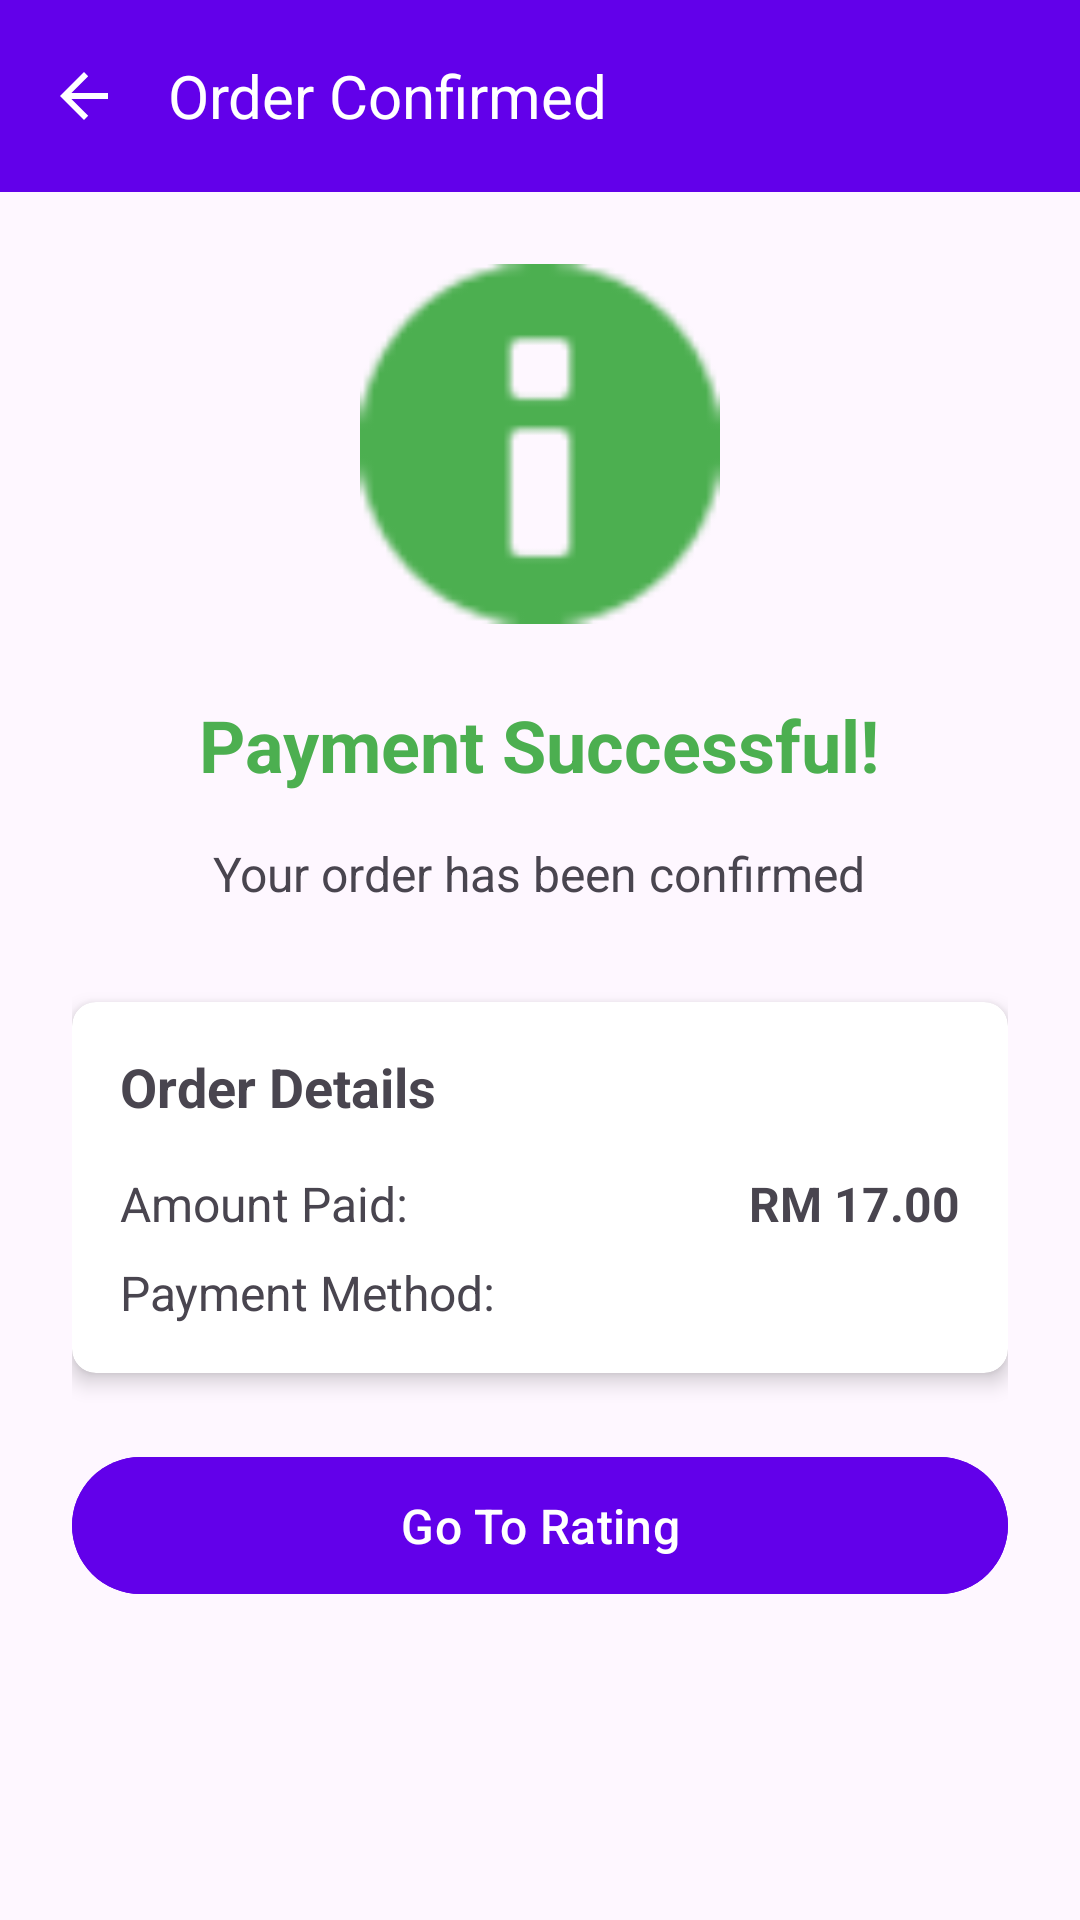

Point at icon controls on the screen. Image size 1080px x 1920px, points as (x,y).
info: (540,444)
